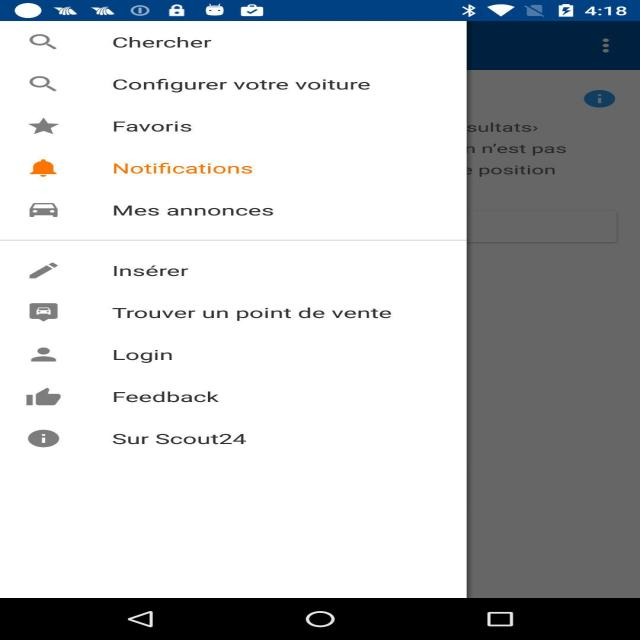button: (3, 292, 393, 332), (8, 70, 380, 107), (30, 192, 299, 230), (12, 25, 260, 65), (28, 153, 261, 185), (15, 336, 198, 374), (22, 422, 256, 446), (22, 110, 211, 138), (19, 254, 197, 282), (19, 388, 223, 408), (556, 28, 632, 71)
icon: (6, 20, 87, 458), (564, 80, 624, 116)
text: (111, 294, 392, 335), (94, 68, 394, 105), (96, 194, 296, 232), (463, 118, 571, 186), (91, 20, 239, 64), (86, 156, 283, 186), (103, 419, 260, 449), (91, 111, 248, 139), (90, 383, 228, 412), (94, 343, 208, 372), (103, 257, 209, 284)
